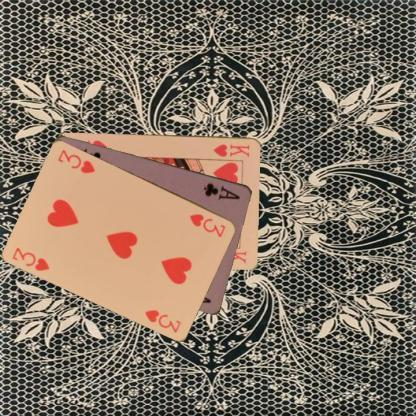3h: (187, 211, 228, 238), (10, 245, 51, 272)
Ac: (201, 180, 242, 200)
Kh: (211, 140, 251, 158)
